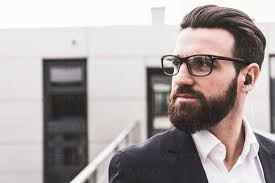Glasses: (158, 49, 246, 80)
